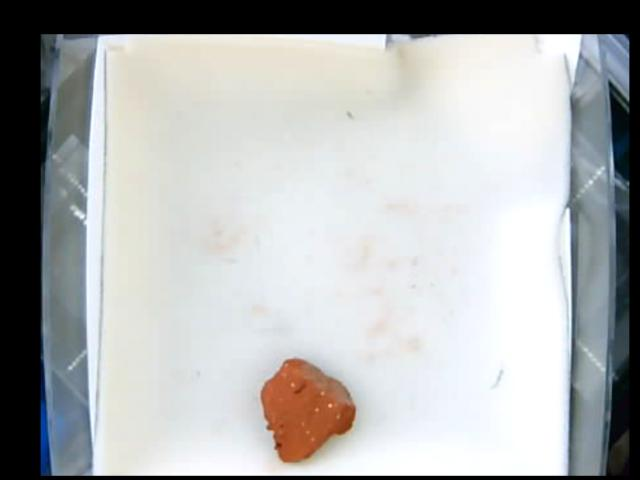Brisk: (259, 357, 355, 463)
